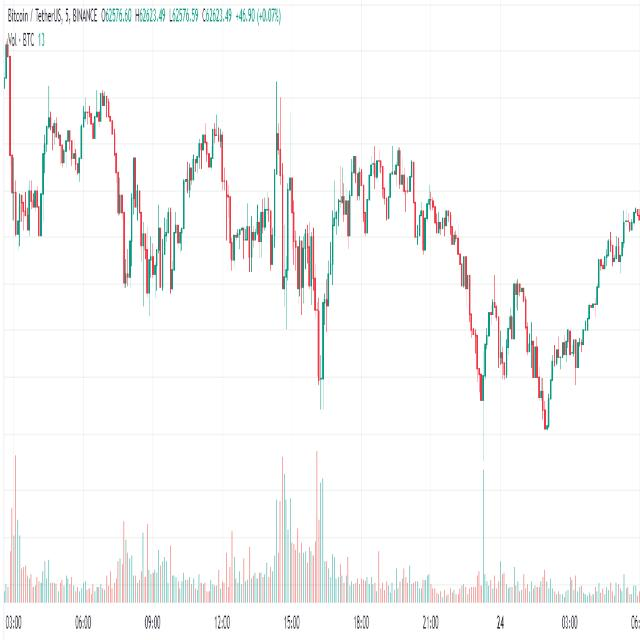Rounding-Top: (322, 137, 479, 344)
